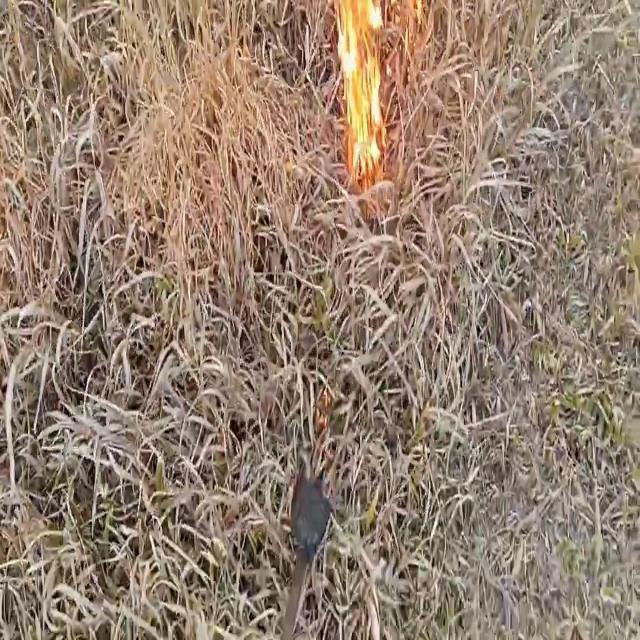Fire: (332, 0, 389, 181)
